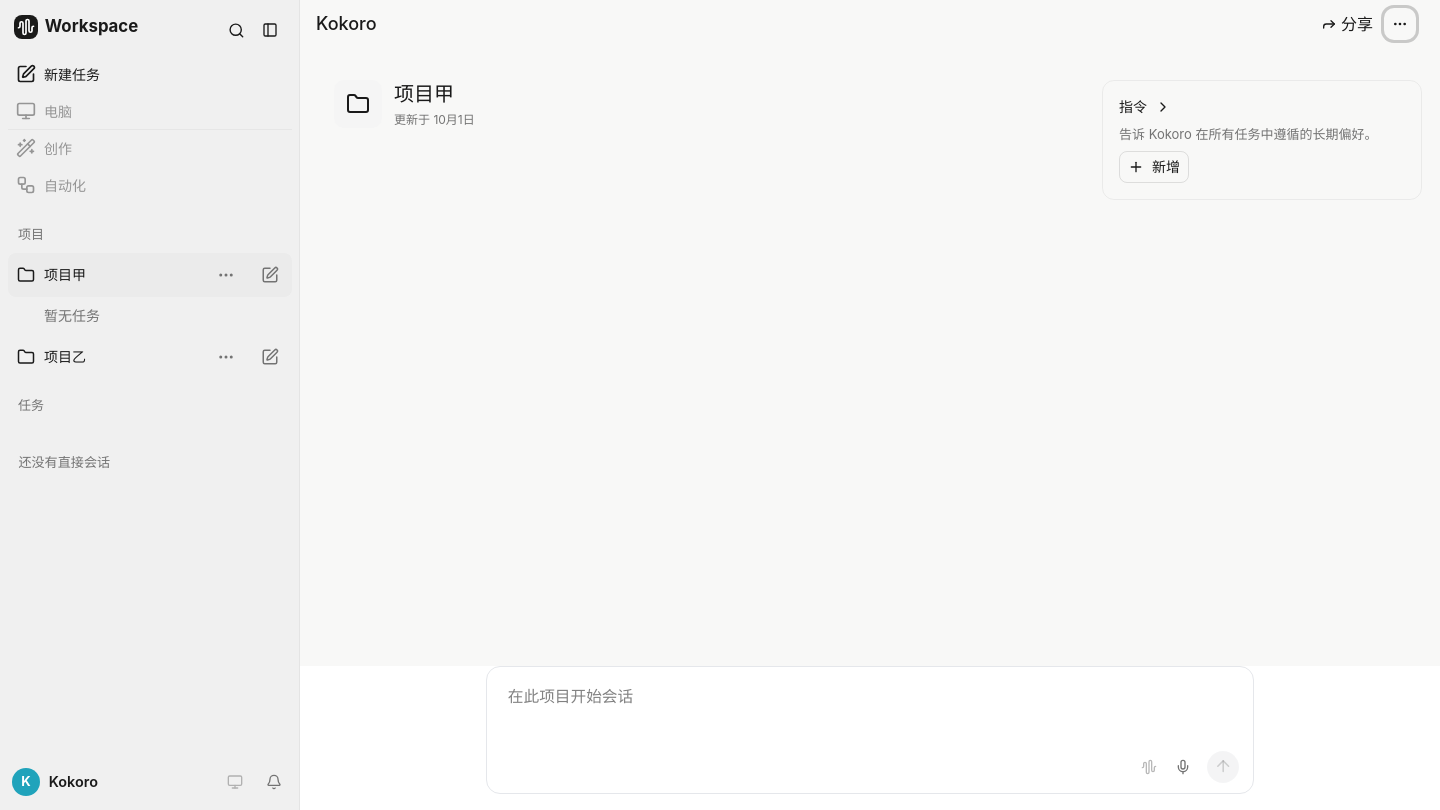
Scenario: 顶部编辑保存使用现 PATCH 并以 owner 回读作为重开内容
This screenshot has width=1440, height=810.
Expected: the heading "项目甲" is shown, [394, 82, 454, 106]
Press ArrowDown in the 1st button named "项目选项", box [1384, 8, 1416, 40]
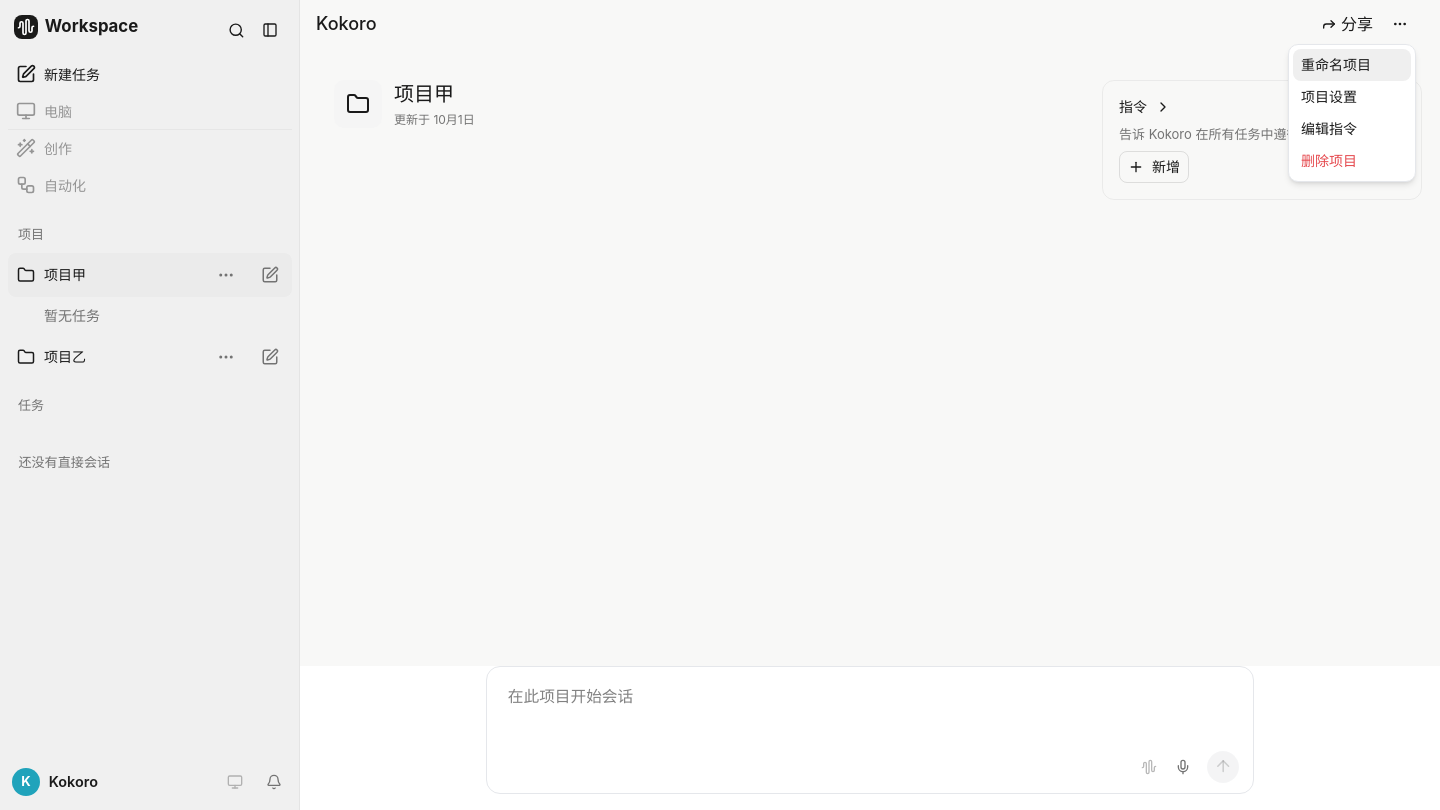
Click the menu item "编辑指令": [1329, 128] box [1301, 120, 1357, 137]
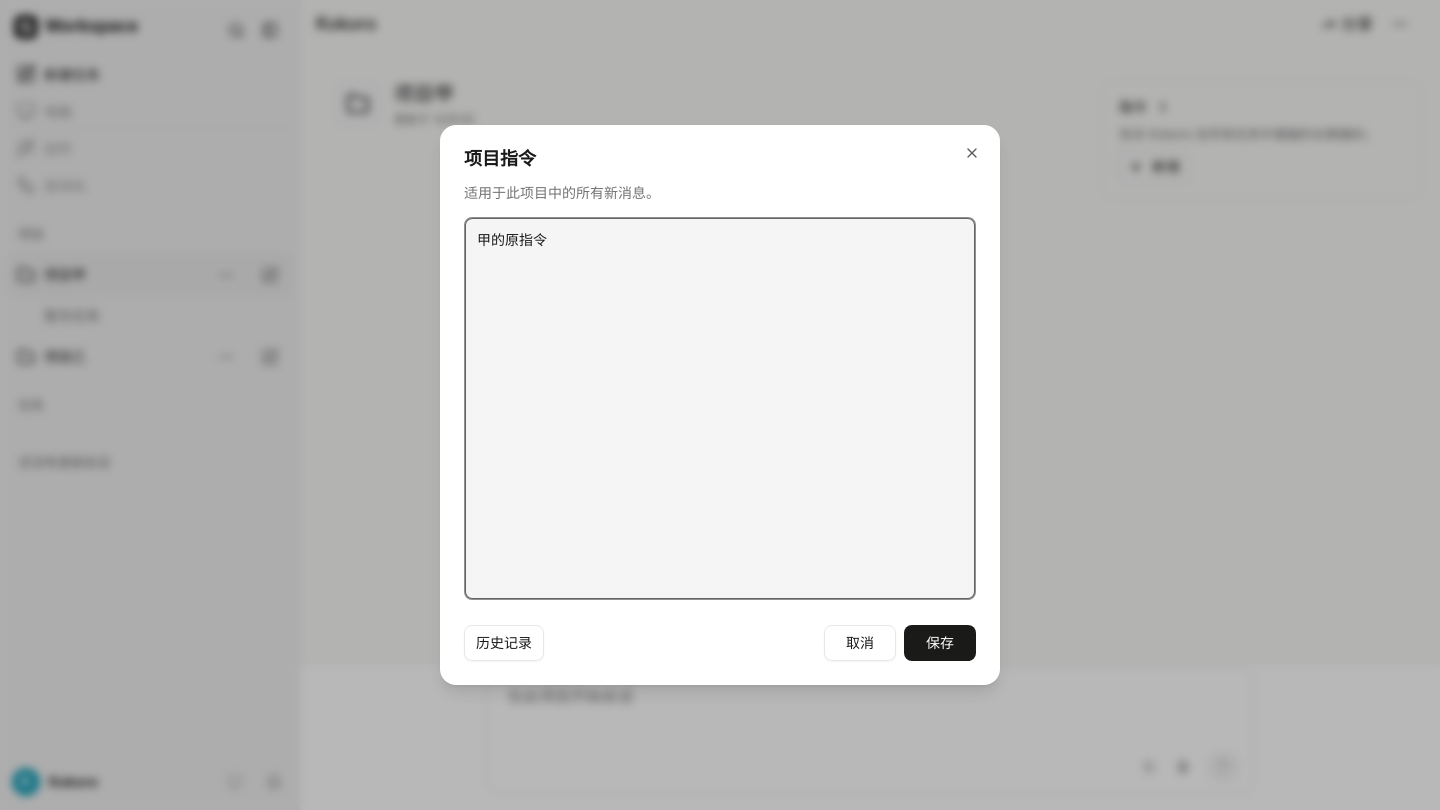
Replace the text in the text box with "甲的正式更新": [720, 408] box [464, 217, 976, 600]
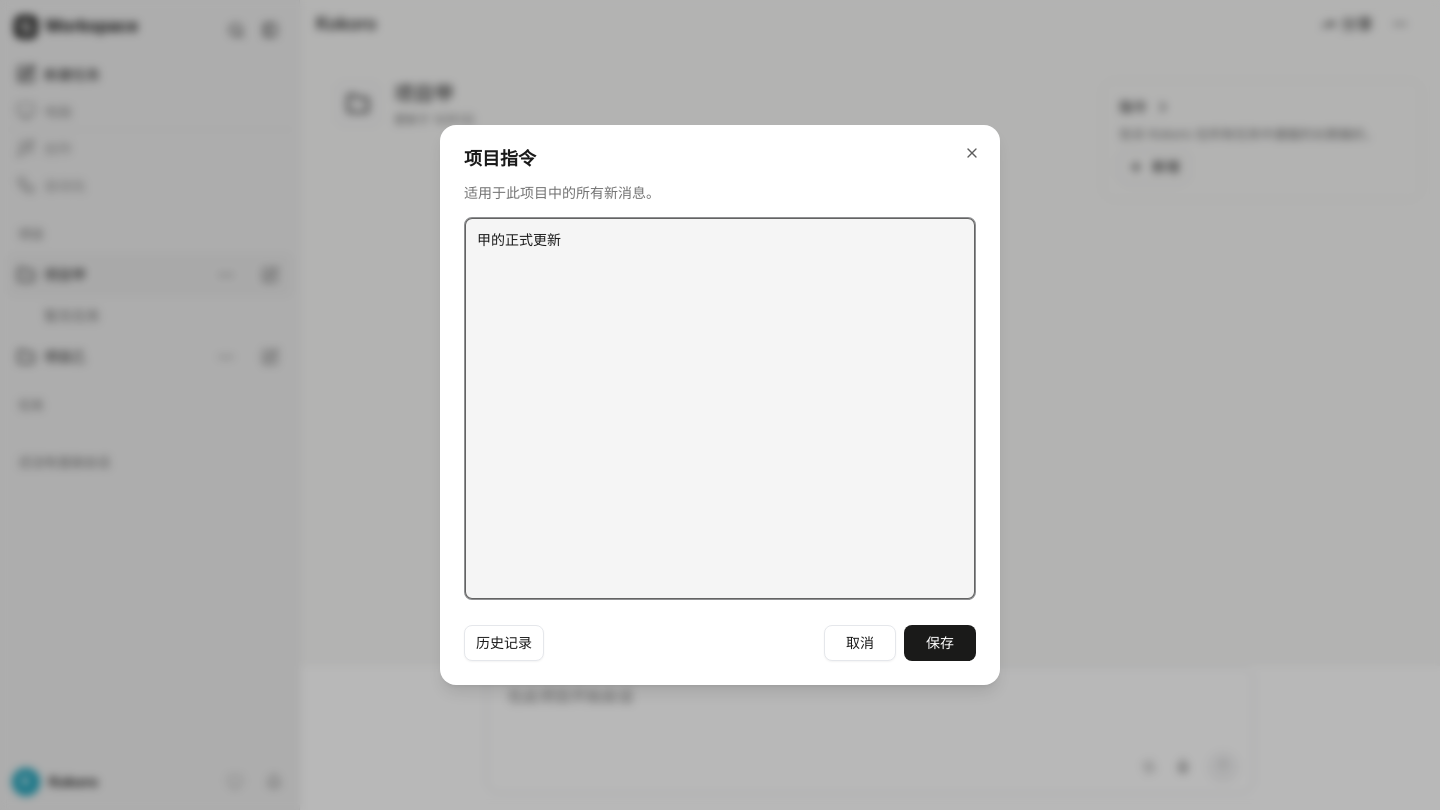
Click the button "保存": [940, 643] box [904, 625, 976, 661]
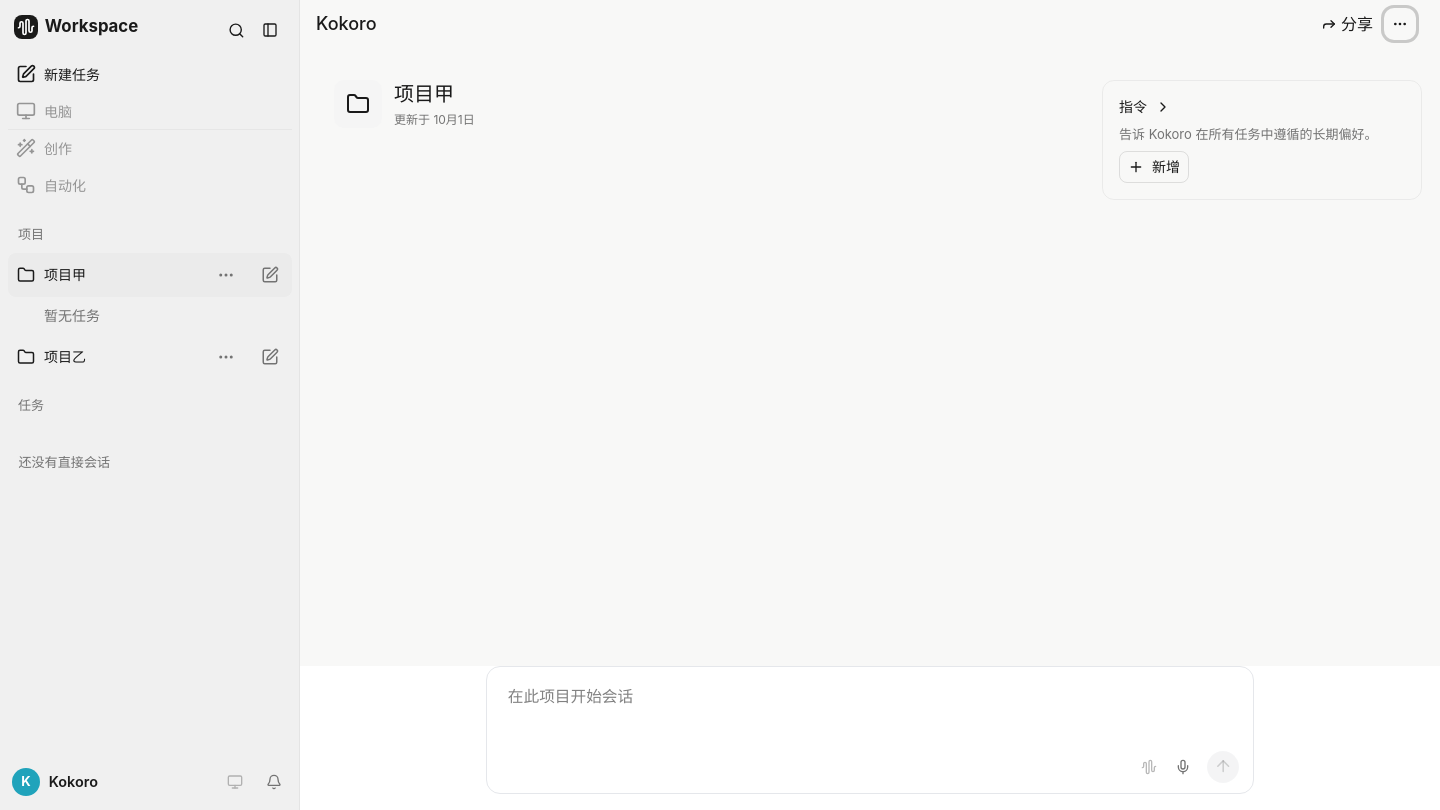
Expected: the heading "项目甲" is shown, [394, 82, 454, 106]
Expected: the heading "项目指令" is gone
Press ArrowDown in the 1st button named "项目选项", box [1384, 8, 1416, 40]
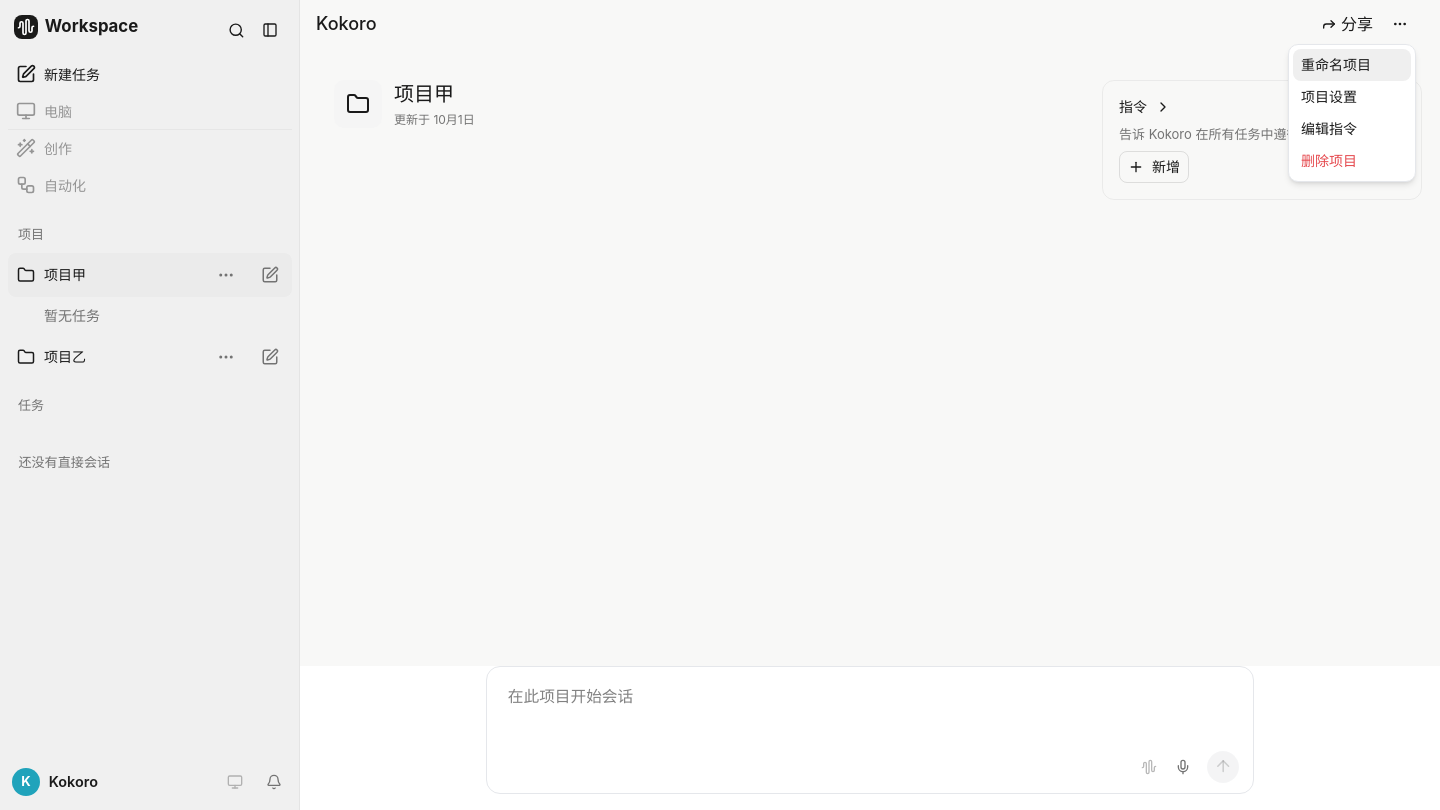
Click the menu item "编辑指令": [1329, 128] box [1301, 120, 1357, 137]
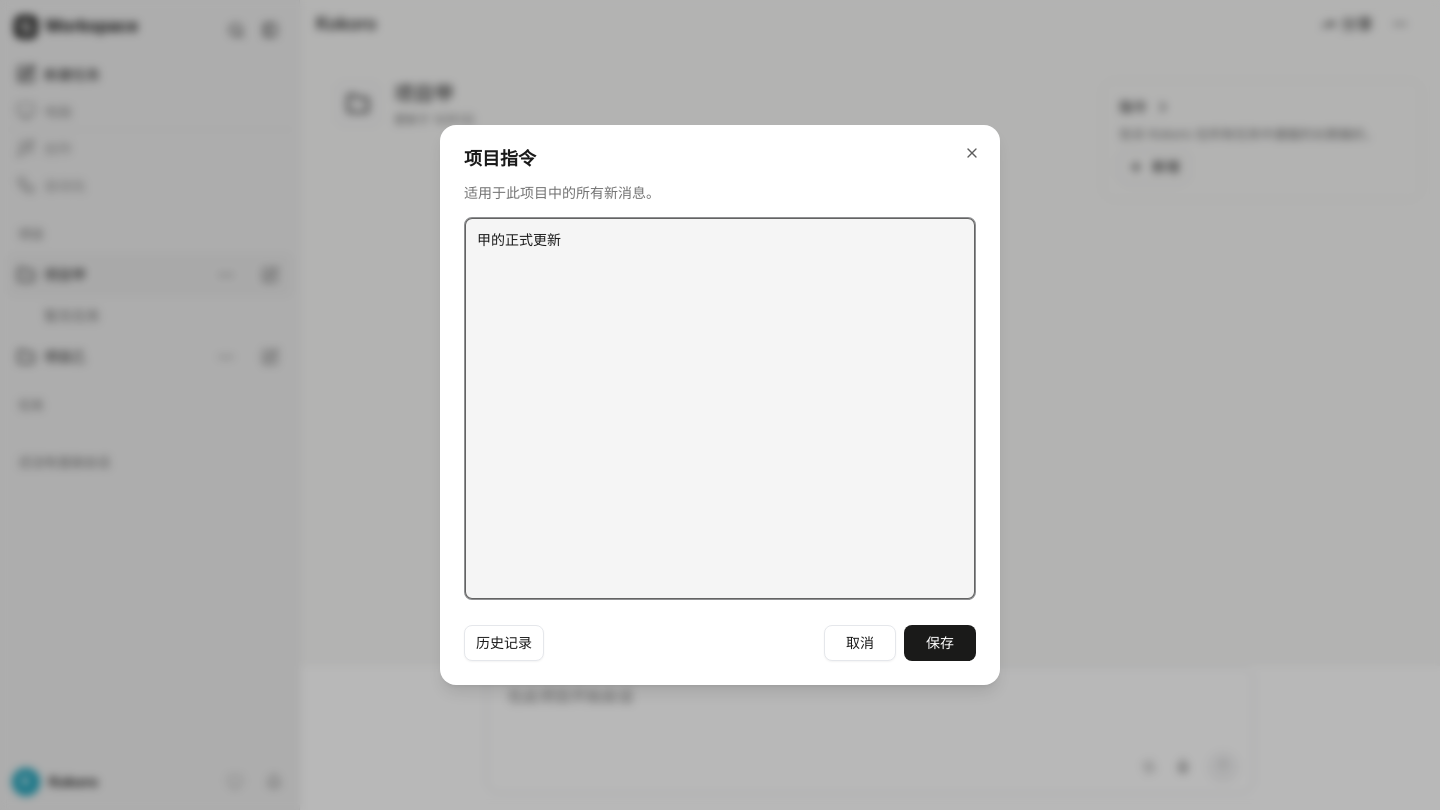
Expected: the text box named "项目指令" holds "甲的正式更新", [464, 217, 976, 600]
